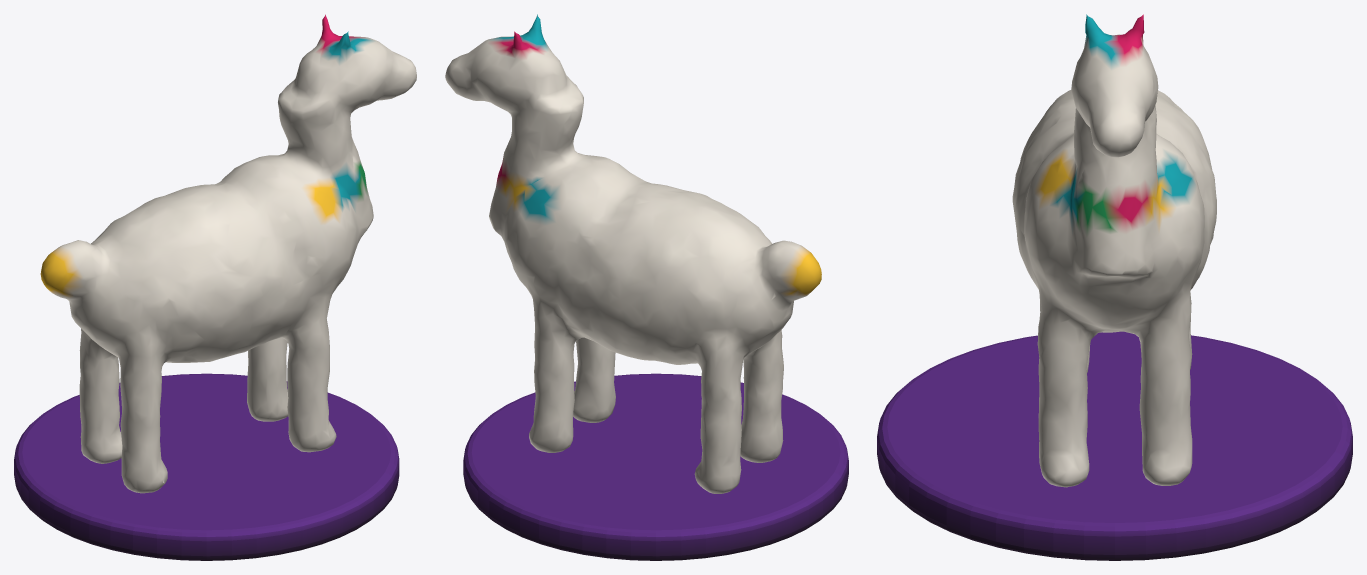
File: illa.glb
3 renders of one model, left to right at view 1: azimuth 30°, elevation 25°; view 2: azimuth 150°, elevation 25°; view 3: azimuth 270°, elevation 25°, orthographic. The views are drawn at different scales.
Visible parts, largest first — view 1: Illa, IllaBase; view 2: Illa, IllaBase; view 3: IllaBase, Illa.
Part boxes in pixels (x1,y1,x2,y2): Illa: (40, 14, 416, 493); IllaBase: (14, 373, 399, 560); Illa: (445, 14, 821, 493); IllaBase: (463, 373, 848, 560); IllaBase: (877, 331, 1352, 560); Illa: (1012, 14, 1216, 487).
Bounding box in the file's own units: 1.57 × 1.72 × 1.4.
